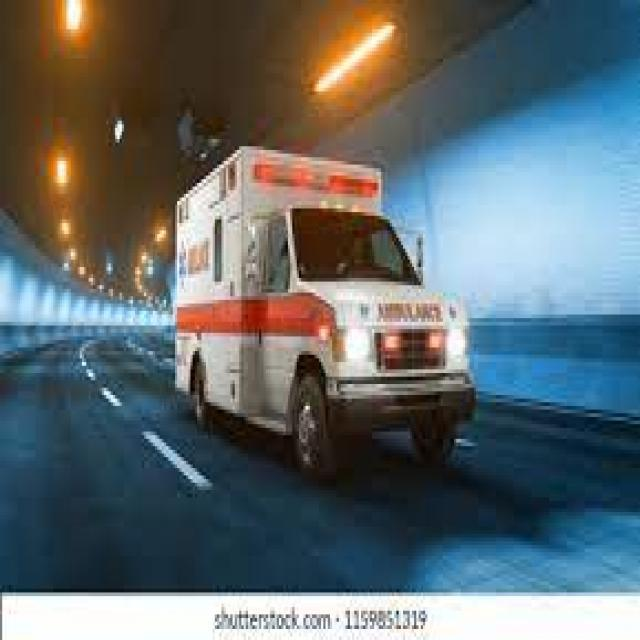emergency-vehicle: (160, 147, 484, 476)
